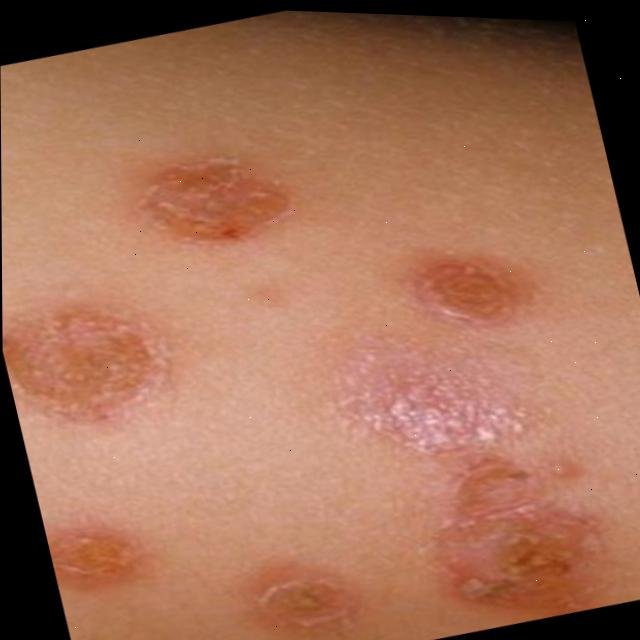Eczema: (350, 254, 605, 637), (10, 303, 165, 404), (147, 142, 294, 243), (44, 508, 151, 591), (249, 570, 364, 640)
